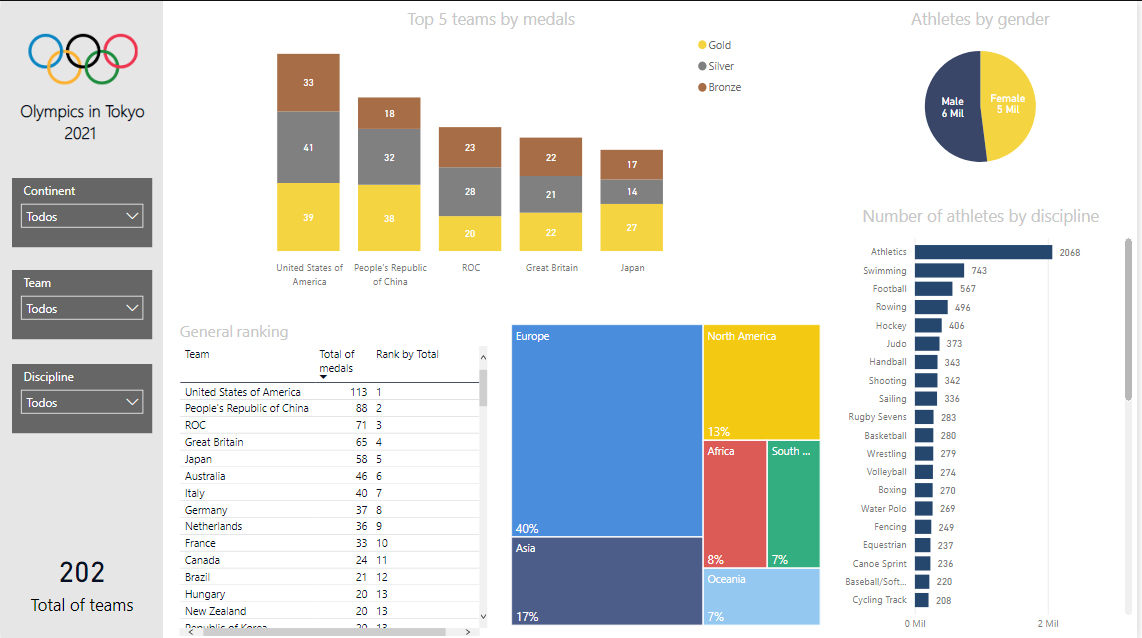

Layout of this report page (visuals, bound fields, positions):
{"tool":"powerbi","page":{"name":"Home","canvas":[1280,720],"ordinal":0},"visuals":[{"type":"shape","box":[0,0,183.5,719.7],"z":0},{"type":"image","box":[25.4,0,132.7,129.8],"z":1000},{"type":"tableEx","title":"General ranking","fields":{"Values":["Medals.Team/NOC","Sum(Medals.Total)","Medals.Rank by Total"]},"box":[196.3,360.8,357,359.5],"z":2000},{"type":"barChart","title":"Number of athletes by discipline","fields":{"Category":["Athletes.Discipline"],"Y":["CountNonNull(Athletes.Name)"]},"box":[928.8,228.6,350.8,491.4],"z":3000},{"type":"textbox","box":[0,105.8,183.5,93.1],"z":4000},{"type":"slicer","fields":{"Values":["Continents.Continent"]},"box":[12.7,199,158.1,77.6],"z":5000},{"type":"slicer","fields":{"Values":["Continents.NOC"]},"box":[12.7,303.4,158.1,77.6],"z":6000},{"type":"slicer","fields":{"Values":["Athletes.Discipline"]},"box":[12.7,409.3,158.1,77.6],"z":7000},{"type":"card","fields":{"Values":["CountNonNull(Continents.NOC)"]},"box":[5.6,595.5,170.8,114.3],"z":8000},{"type":"treemap","fields":{"Group":["Continents.Continent"],"Values":["CountNonNull(Athletes.Name)"]},"box":[569.9,359.5,358.2,349.3],"z":9000},{"type":"pieChart","title":"Athletes by gender","fields":{"Y":["Sum(EntriesGender.Female)","Sum(EntriesGender.Male)"]},"box":[951.1,6.4,304.7,198.9],"z":10000},{"type":"columnChart","title":"Top 5 teams by medals","fields":{"Category":["Medals.Team/NOC"],"Y":["Sum(Medals.Gold)","Sum(Medals.Silver)","Sum(Medals.Bronze)"]},"box":[256.3,6.4,592.8,323.8],"z":11000}]}

Visuals, with their boxes in screenshot pixels (x1, y1, x2, y2), scaled from the page's 1280x720 canvas onto the 1142x638 screenshot:
shape: [left=0, top=0, right=164, bottom=637]
image: [left=23, top=0, right=141, bottom=115]
"General ranking" tableEx: [left=175, top=320, right=494, bottom=637]
"Number of athletes by discipline" barChart: [left=829, top=203, right=1141, bottom=637]
textbox: [left=0, top=94, right=164, bottom=176]
slicer - Continents.Continent: [left=11, top=176, right=152, bottom=245]
slicer - Continents.NOC: [left=11, top=269, right=152, bottom=338]
slicer - Athletes.Discipline: [left=11, top=363, right=152, bottom=431]
card - CountNonNull(Continents.NOC): [left=5, top=528, right=157, bottom=629]
treemap - Continents.Continent x CountNonNull(Athletes.Name): [left=508, top=319, right=828, bottom=628]
"Athletes by gender" pieChart: [left=849, top=6, right=1120, bottom=182]
"Top 5 teams by medals" columnChart: [left=229, top=6, right=758, bottom=293]
